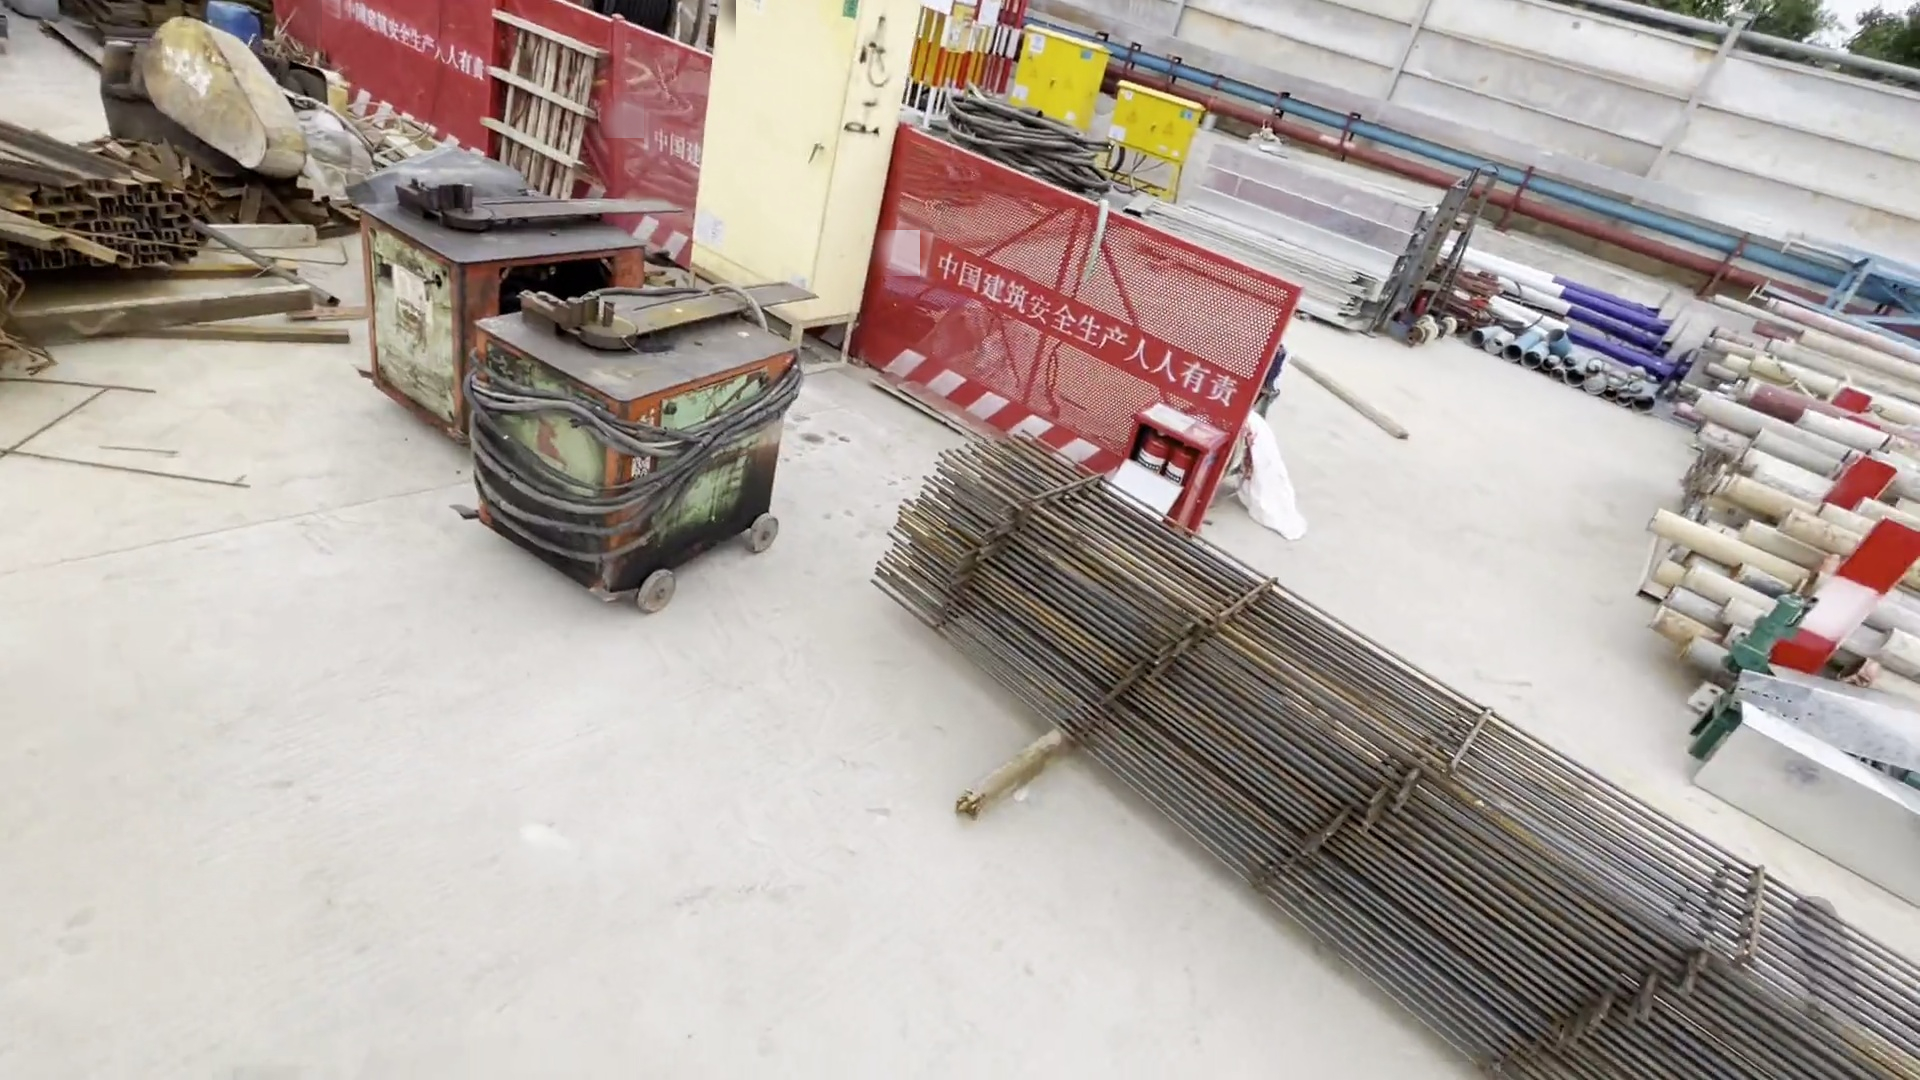ebox: (686, 1, 924, 375), (978, 8, 1191, 207)
fence: (822, 140, 1265, 555), (265, 1, 713, 280)
rebar: (874, 434, 1920, 1069)
slogan: (924, 243, 1270, 414)
